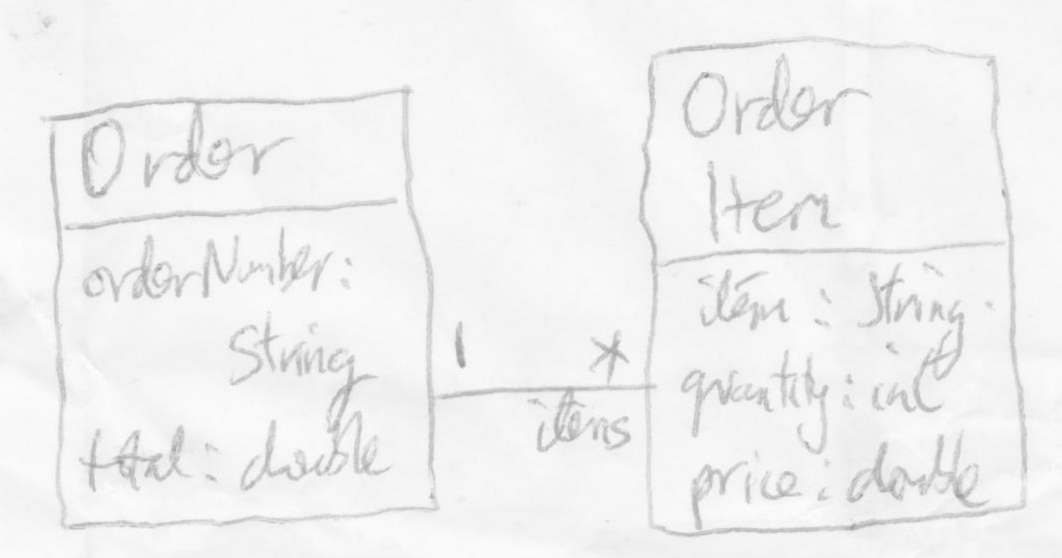association: (432, 307, 655, 456)
class attributes: (641, 34, 1031, 539), (43, 82, 446, 533)
